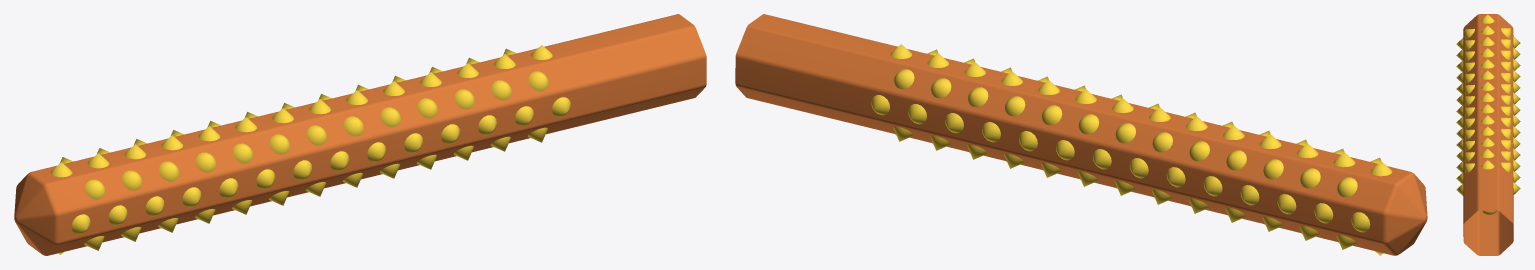
The model's file is trap.fbx.
3 renders of one model, left to right at view 1: azimuth 30°, elevation 25°; view 2: azimuth 150°, elevation 25°; view 3: azimuth 270°, elevation 25°, orthographic. The views are drawn at different scales.
Parts seen in each view (by area): view 1: trap; view 2: trap; view 3: trap.
Part boxes in pixels (<box>): trap: <box>14,14,706,255</box>; trap: <box>735,14,1427,255</box>; trap: <box>1456,14,1520,255</box>.
Bounding box in the file's own units: 5449 × 730 × 730.
